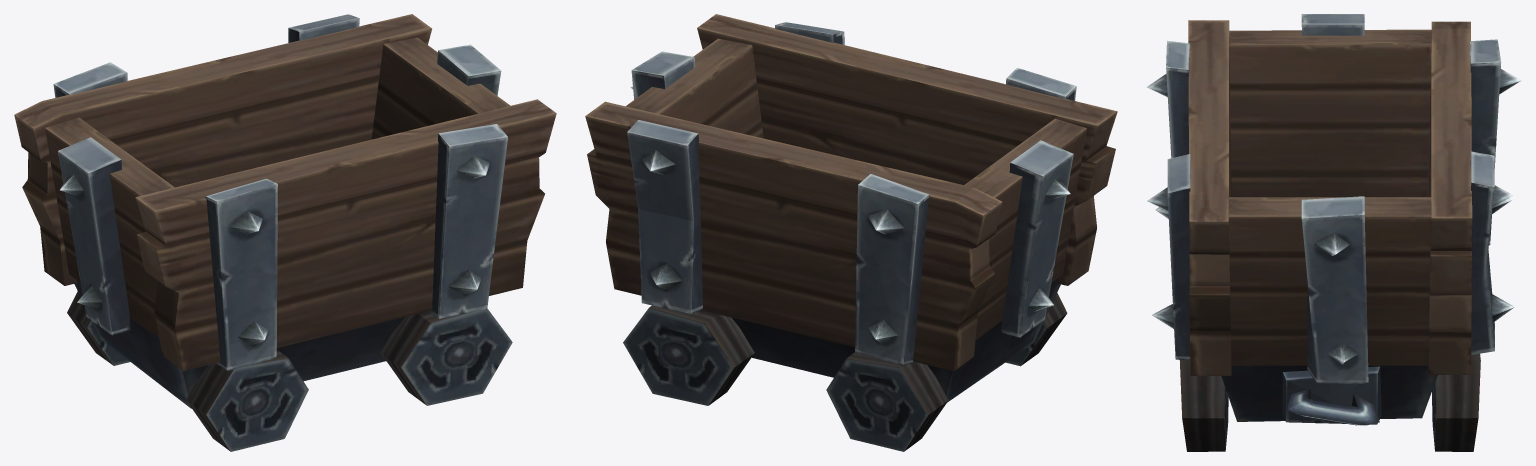
Rendered from bandit_cart_01.fbx.
The picture shows the model from 3 angles, left to right: view 1: azimuth 30°, elevation 25°; view 2: azimuth 150°, elevation 25°; view 3: azimuth 270°, elevation 25°; orthographic projection. The views are drawn at different scales.
Parts seen in each view (by area): view 1: obj0.692; view 2: obj0.692; view 3: obj0.692.
Boxes of the visible parts, x1,y1,x2,y2 form: obj0.692: [14, 14, 556, 451]; obj0.692: [585, 14, 1117, 451]; obj0.692: [1146, 14, 1521, 451].
Size of the model in its own units: 2.37 by 1.4 by 1.7.
